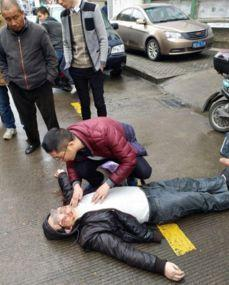Fall-Detected: (31, 160, 226, 279)
